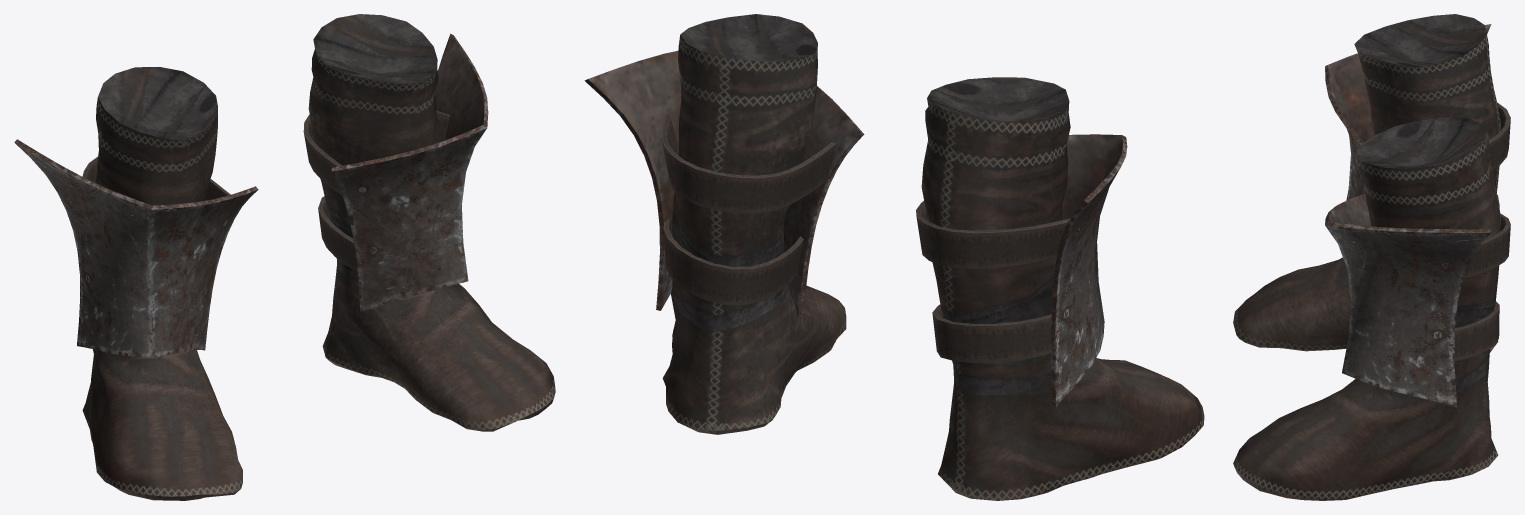
Rendered from sk_gb_uruk_boots_med_a.fbx.
The picture shows the model from 3 angles, left to right: view 1: azimuth 30°, elevation 25°; view 2: azimuth 150°, elevation 25°; view 3: azimuth 270°, elevation 25°; orthographic projection. The views are drawn at different scales.
Parts seen in each view (by area): view 1: sk_gb_uruk_boots_med_a.0, sk_gb_uruk_boots_med_a.1; view 2: sk_gb_uruk_boots_med_a.0, sk_gb_uruk_boots_med_a.1; view 3: sk_gb_uruk_boots_med_a.0, sk_gb_uruk_boots_med_a.1.
Part boxes in pixels (x1,y1,x2,y2): sk_gb_uruk_boots_med_a.0: (14, 14, 555, 500); sk_gb_uruk_boots_med_a.1: (82, 110, 450, 272); sk_gb_uruk_boots_med_a.0: (584, 14, 1204, 500); sk_gb_uruk_boots_med_a.1: (661, 114, 1069, 363); sk_gb_uruk_boots_med_a.0: (1233, 14, 1500, 500); sk_gb_uruk_boots_med_a.1: (1454, 102, 1510, 360).
Bounding box in the file's own units: 0.5674 × 0.3199 × 0.4095.
Materials: 2 (2 with a texture image).
